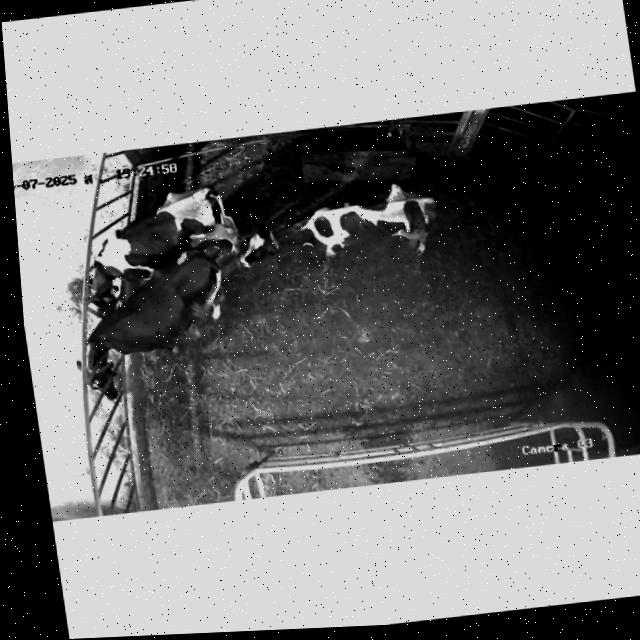stand: (229, 171, 460, 281)
